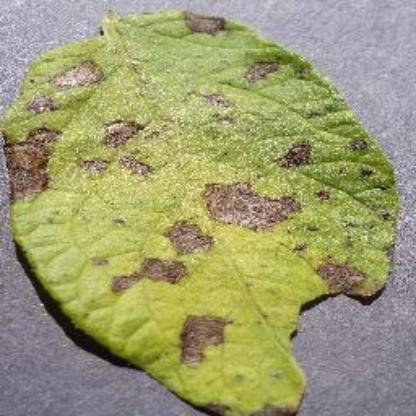Early-Blight: (1, 4, 404, 416)
